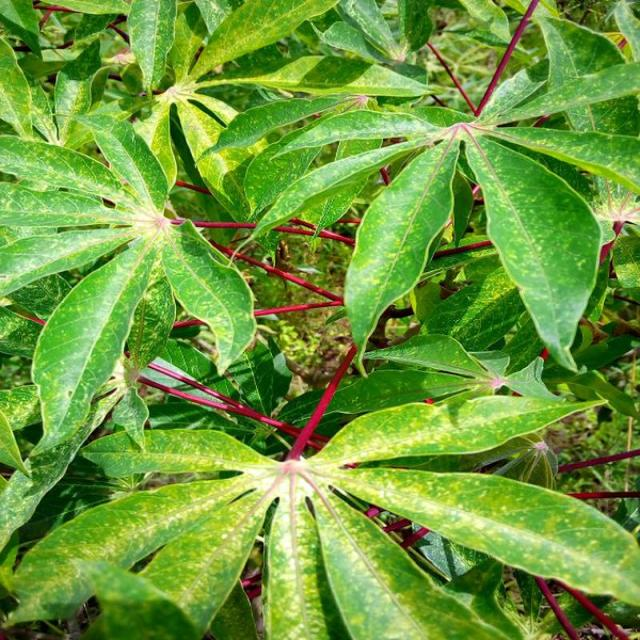Mosaico: (93, 417, 591, 640)
